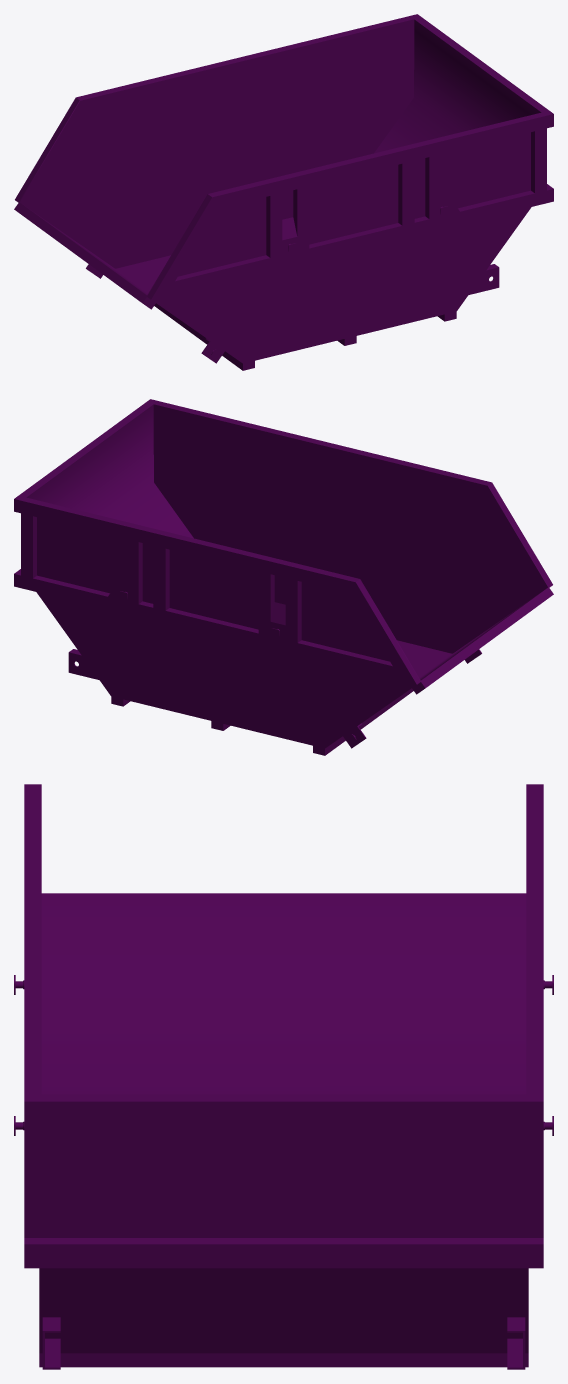
Rendered from SM_Skip.fbx.
3 renders of one model, top to bottom at view 1: azimuth 30°, elevation 25°; view 2: azimuth 150°, elevation 25°; view 3: azimuth 270°, elevation 25°, orthographic. The views are drawn at different scales.
Parts seen in each view (by area): view 1: Skip; view 2: Skip; view 3: Skip.
Boxes of the visible parts, box(x1,y1,x2,y2) form: Skip: box(14, 14, 553, 370); Skip: box(14, 399, 553, 755); Skip: box(14, 784, 553, 1369).
Bounding box in the file's own units: 348 × 151 × 210.
